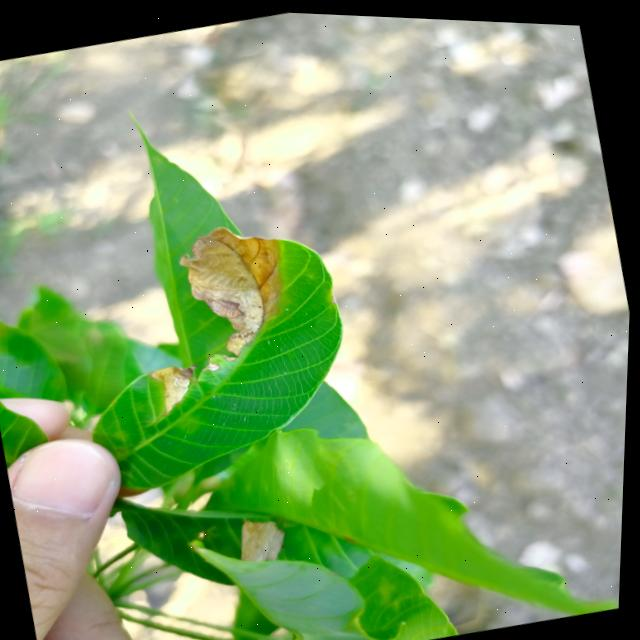Leaf-Blight: (176, 212, 303, 362), (147, 357, 210, 417)
